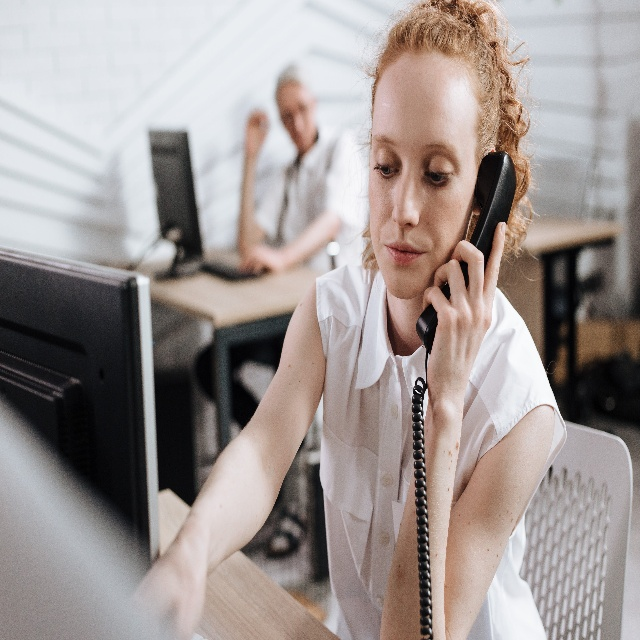Sin_guantes: (422, 221, 509, 398), (245, 109, 267, 157), (241, 244, 276, 274)
